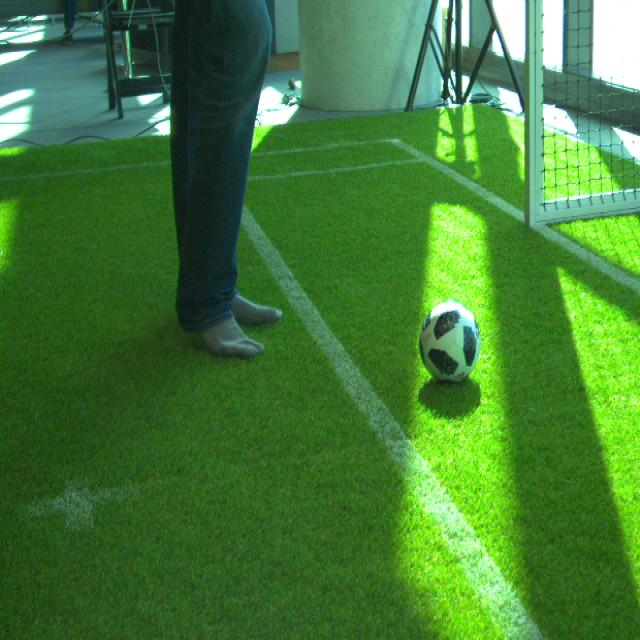ball: (418, 298, 480, 386)
goalpost: (525, 0, 541, 225)
